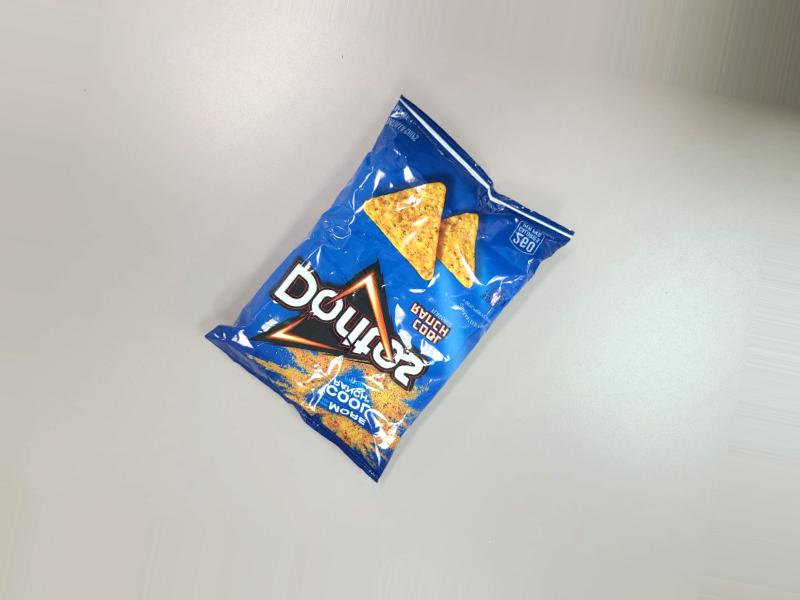doritos: (213, 80, 562, 487)
